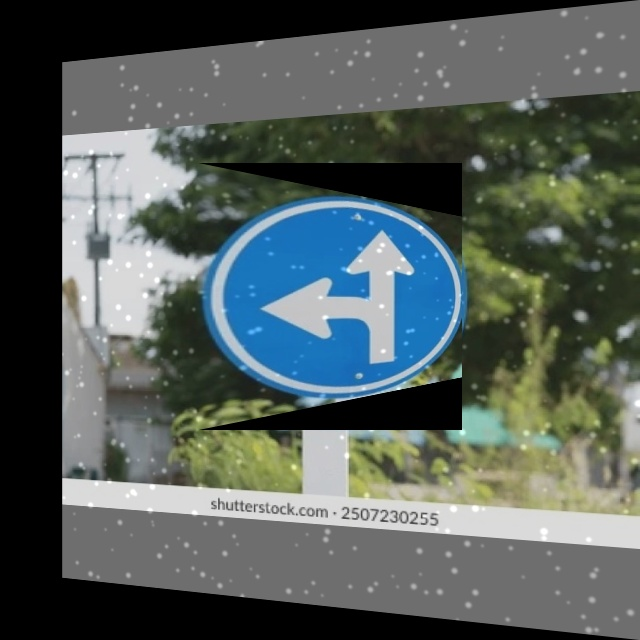Compulsory_Ahead_or_Turn_Left: (198, 163, 462, 430)
